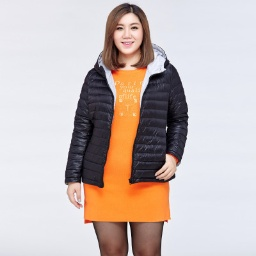face: (99, 4, 156, 70)
